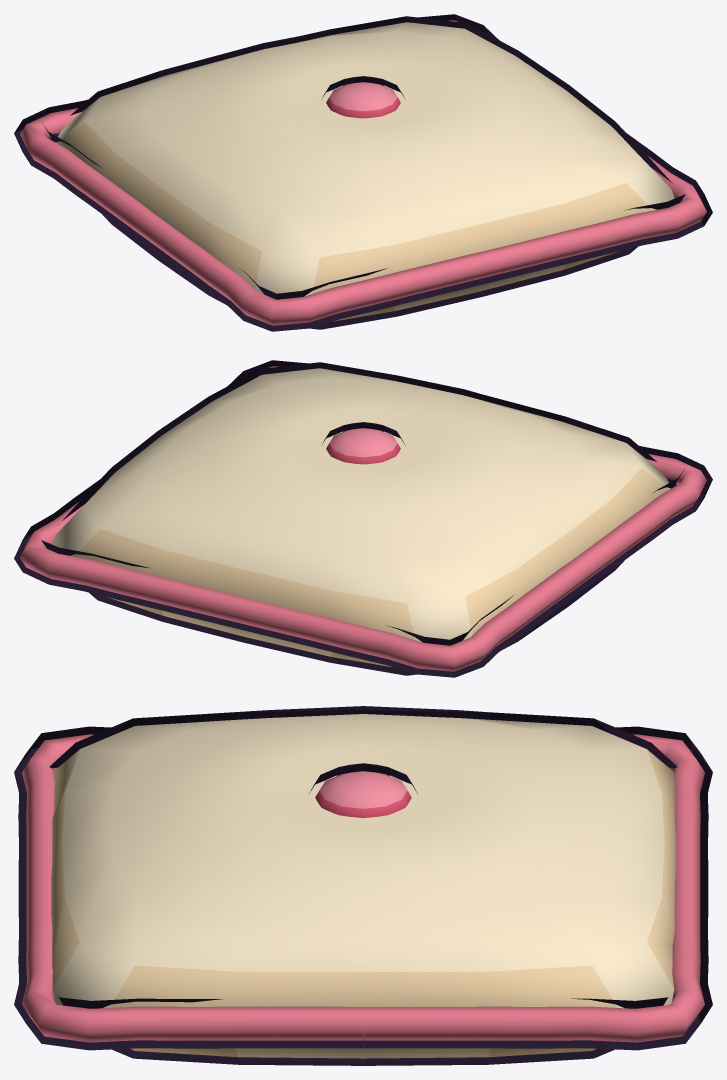
The model's file is SlotCushion.glb.
The picture shows the model from 3 angles, top to bottom: view 1: azimuth 30°, elevation 25°; view 2: azimuth 150°, elevation 25°; view 3: azimuth 270°, elevation 25°; orthographic projection. The views are drawn at different scales.
Parts seen in each view (by area): view 1: SlotCushion, SlotCushion_Outline; view 2: SlotCushion, SlotCushion_Outline; view 3: SlotCushion, SlotCushion_Outline.
Part boxes in pixels (left/top/right/bottom): SlotCushion: left=20, top=20, right=706, bottom=325; SlotCushion_Outline: left=14, top=14, right=712, bottom=331; SlotCushion: left=20, top=366, right=706, bottom=671; SlotCushion_Outline: left=14, top=360, right=712, bottom=677; SlotCushion: left=22, top=714, right=704, bottom=1058; SlotCushion_Outline: left=14, top=706, right=712, bottom=1065.
Bounding box in the file's own units: 6.18 × 1.96 × 6.18.
1 material, 1 textured.
